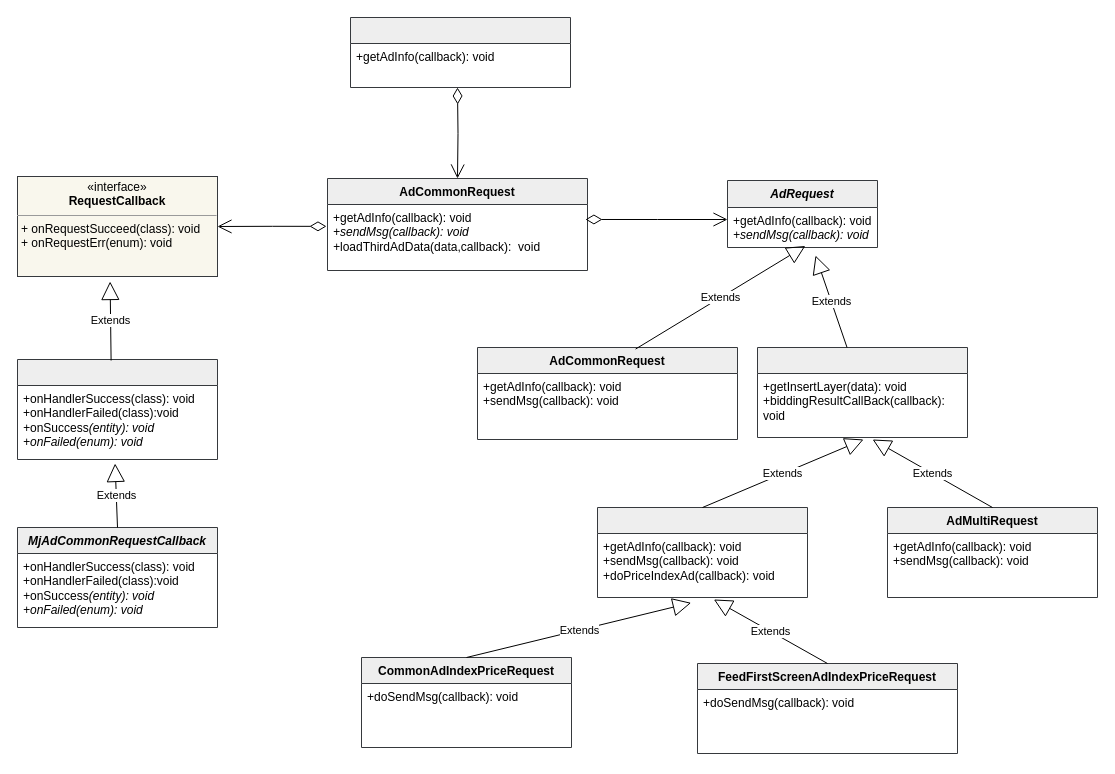
Image size: 1115x774. Some labels were removed from this diagram. Here are the shapes that lost their labels. From the top down, the box of each, then its label:
(350, 16, 570, 88): ViewModel
(16, 358, 218, 460): AdRequestCallback
(756, 346, 968, 438): AbsAdIndexRequest
(596, 506, 808, 598): AdIndexPriceRequest
